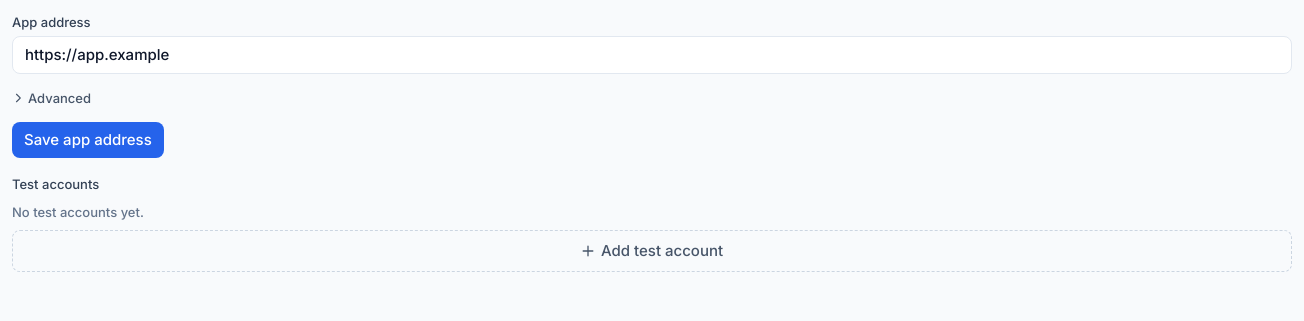
AppSetup: the saved note › never shows "Saved" next to an error when the reload after the save fails
Click the button "Save app address": (88, 140) x1=12 y1=122 x2=164 y2=158
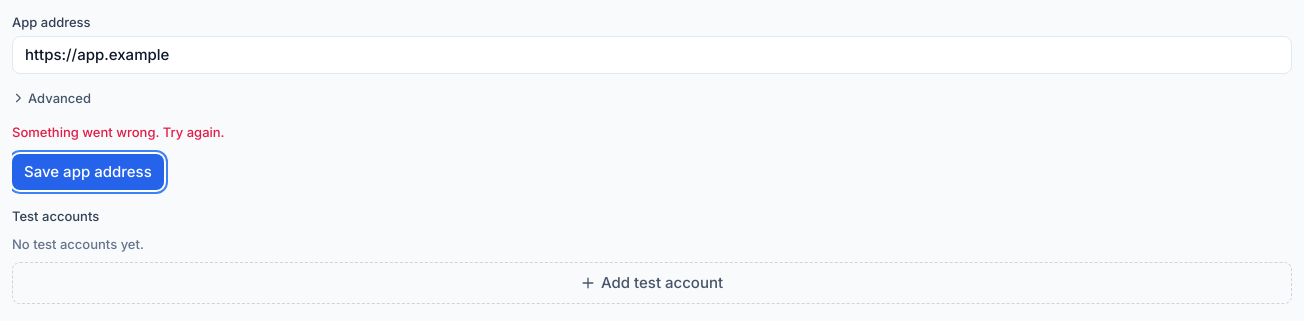
Expected: the message "Something went wrong. Try again." is shown, x1=12 y1=124 x2=225 y2=140
